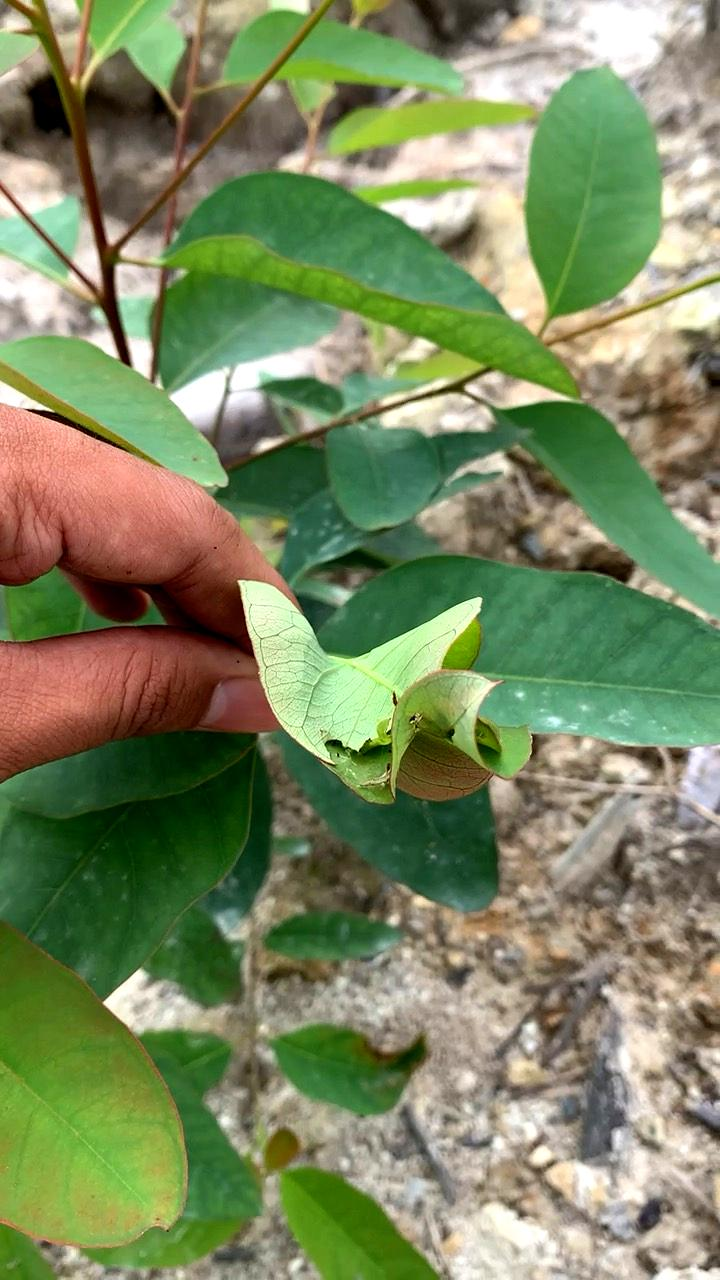Leaf Roller - Leaf: (226, 545, 543, 824)
